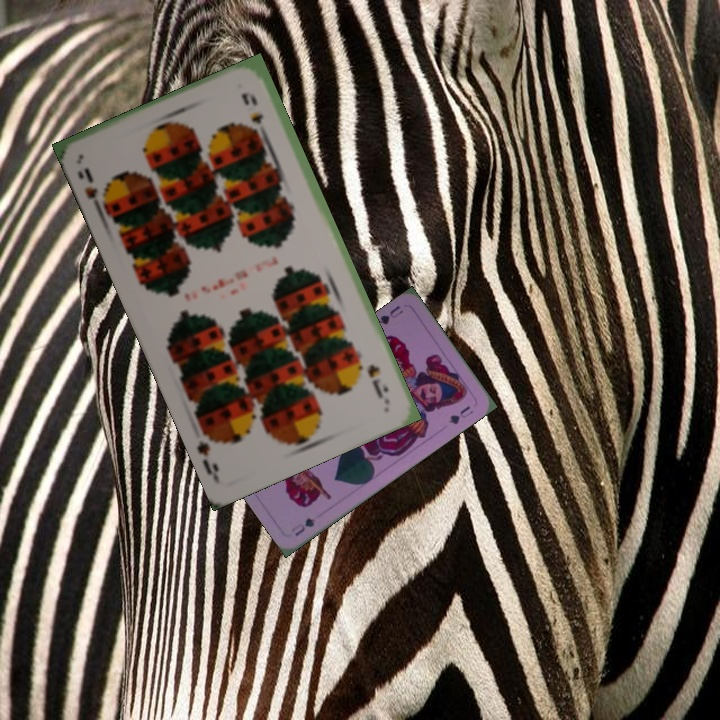GU: (375, 301, 406, 327), (287, 514, 319, 539)
S9: (80, 163, 108, 216), (363, 360, 392, 395)
